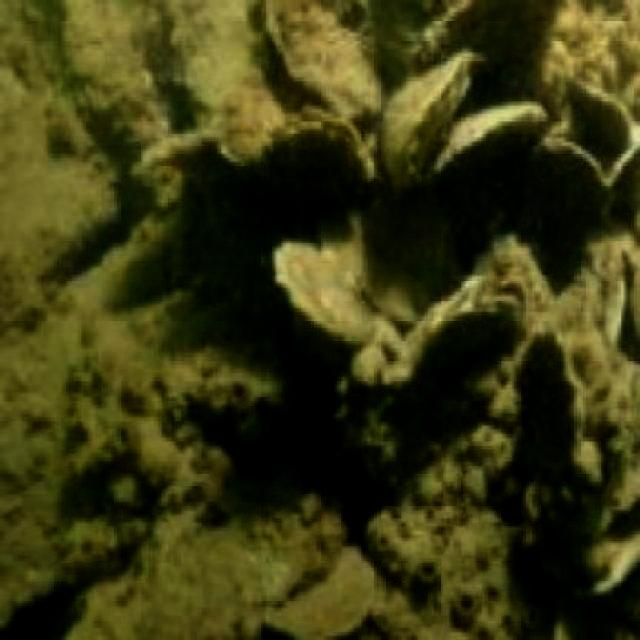Oyster-Closed: (513, 336, 628, 574), (264, 8, 382, 128), (389, 53, 477, 195), (421, 0, 553, 91), (187, 28, 277, 157), (257, 550, 373, 640), (268, 241, 364, 342), (440, 94, 554, 174)
Oyster-Open: (251, 106, 369, 204)
